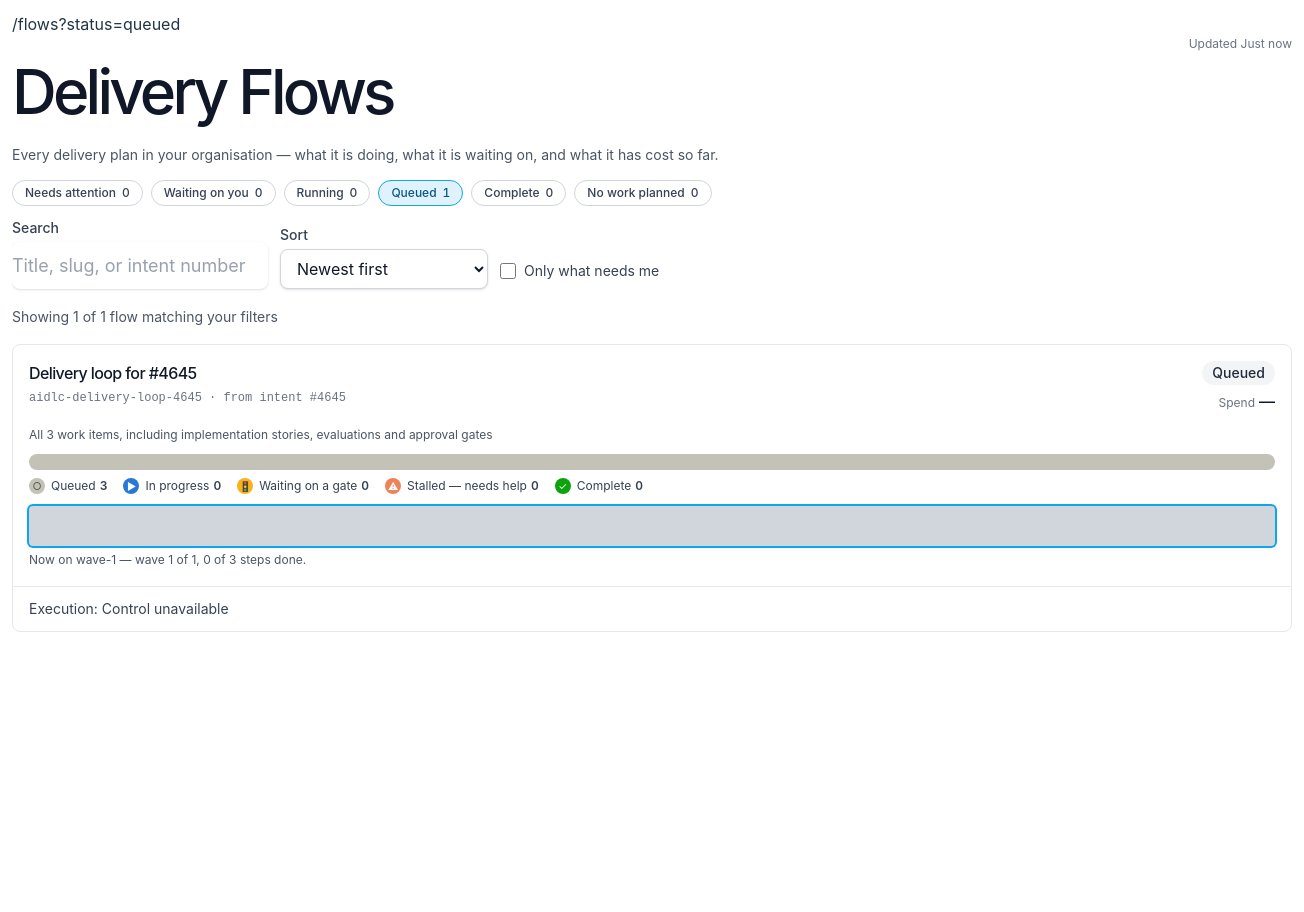
filters live in the query string › clears a status filter when its selected chip is clicked again
Click the button with test id "status-chip-queued". click: [421, 192]
box: [378, 180, 463, 206]
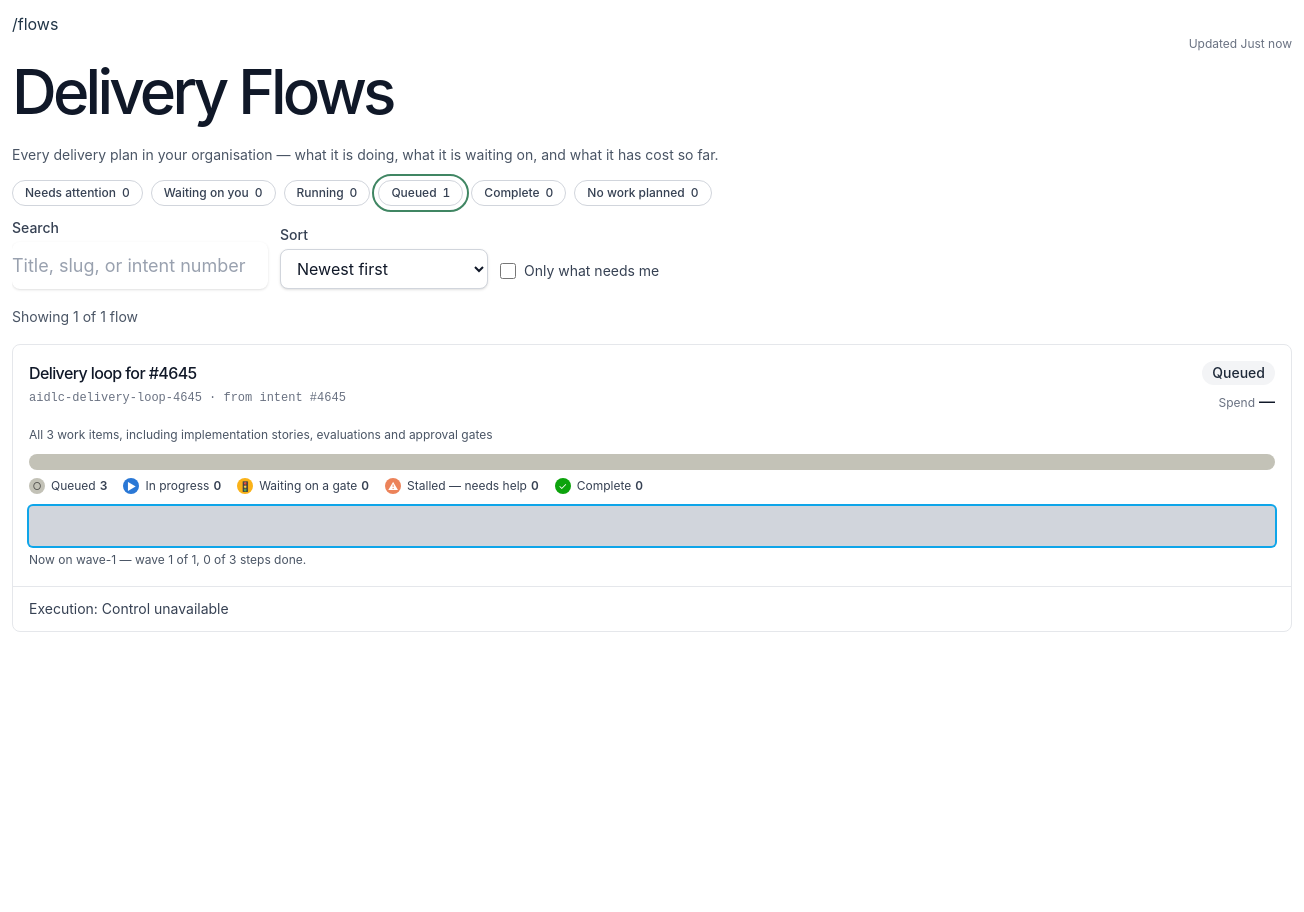
Check: the text with test id "location" reads "/flows", box [12, 14, 58, 34]
Check: the text with test id "location" no longer shows "status="
